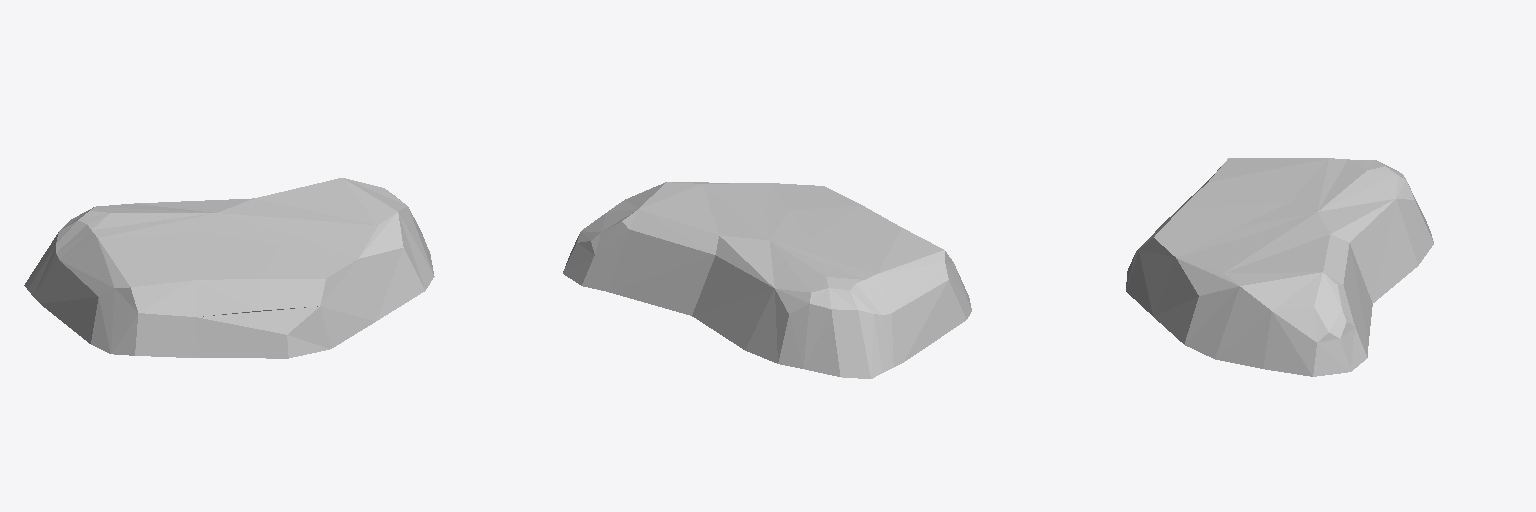
File: Pebble_Round_1.obj
3 renders of one model, left to right at view 1: azimuth 30°, elevation 25°; view 2: azimuth 150°, elevation 25°; view 3: azimuth 270°, elevation 25°, orthographic.
Parts seen in each view (by area): view 1: Pebble_Round_1; view 2: Pebble_Round_1; view 3: Pebble_Round_1.
Part boxes in pixels (x1,y1,x2,y2): Pebble_Round_1: (24, 178, 434, 358); Pebble_Round_1: (563, 182, 971, 378); Pebble_Round_1: (1126, 158, 1433, 376).
Size of the model in its own units: 0.5 by 0.0955 by 0.367.